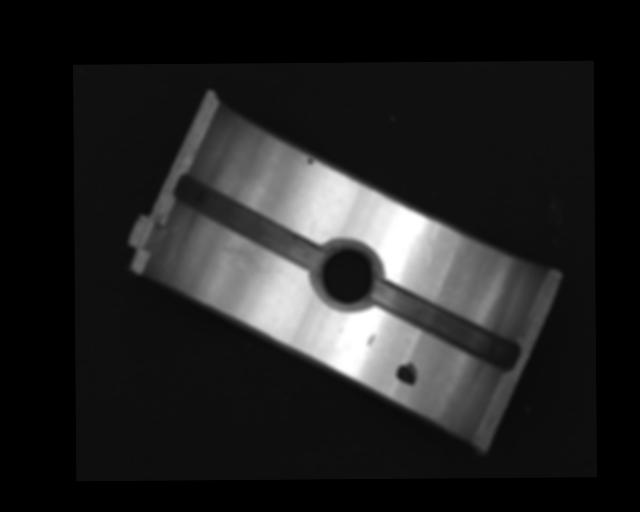blot: (395, 361, 418, 386), (305, 156, 314, 166)
bruise: (422, 222, 442, 267), (368, 333, 376, 348)
gap: (174, 175, 323, 269), (373, 281, 518, 371)
hole: (313, 239, 380, 311)
scratch: (202, 240, 279, 285)
